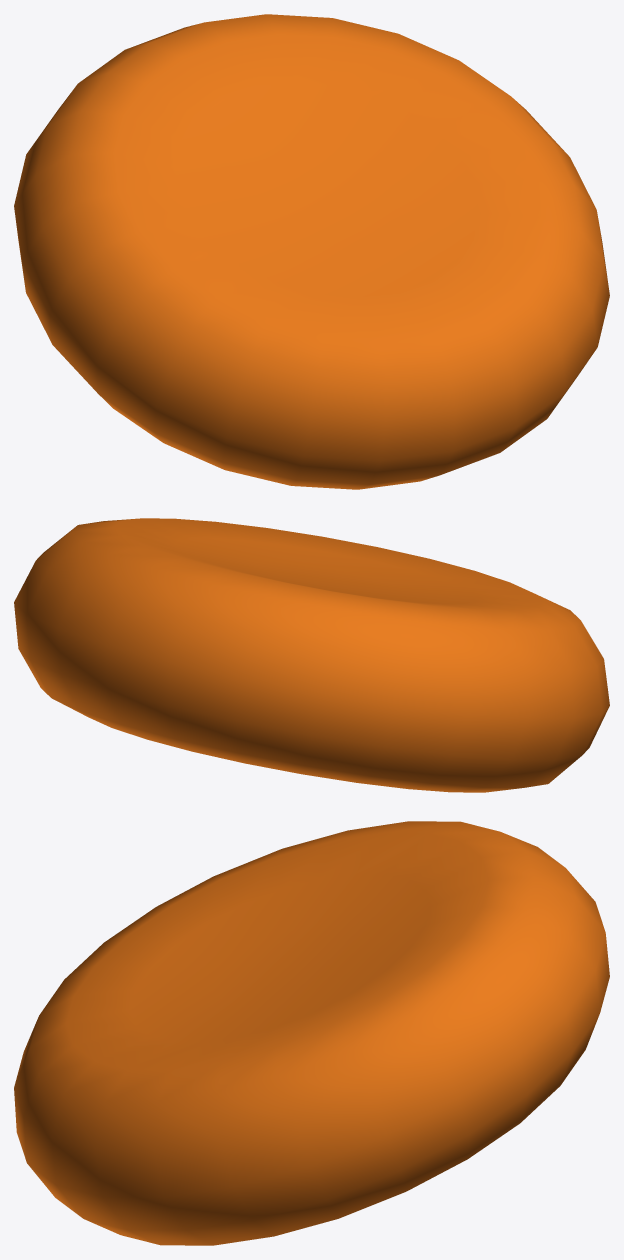
Rendered from ref_bfpumpkinpie.fbx.
3 renders of one model, top to bottom at view 1: azimuth 30°, elevation 25°; view 2: azimuth 150°, elevation 25°; view 3: azimuth 270°, elevation 25°, orthographic. The views are drawn at different scales.
Parts seen in each view (by area): view 1: ref_bfpumpkinpie; view 2: ref_bfpumpkinpie; view 3: ref_bfpumpkinpie.
Part boxes in pixels (x1=…): ref_bfpumpkinpie: x1=14, y1=14, x2=609, y2=489; ref_bfpumpkinpie: x1=14, y1=518, x2=609, y2=792; ref_bfpumpkinpie: x1=14, y1=821, x2=609, y2=1245.
Size of the model in its own units: 100 by 54.84 by 94.77.
Materials: 1 (1 with a texture image).
